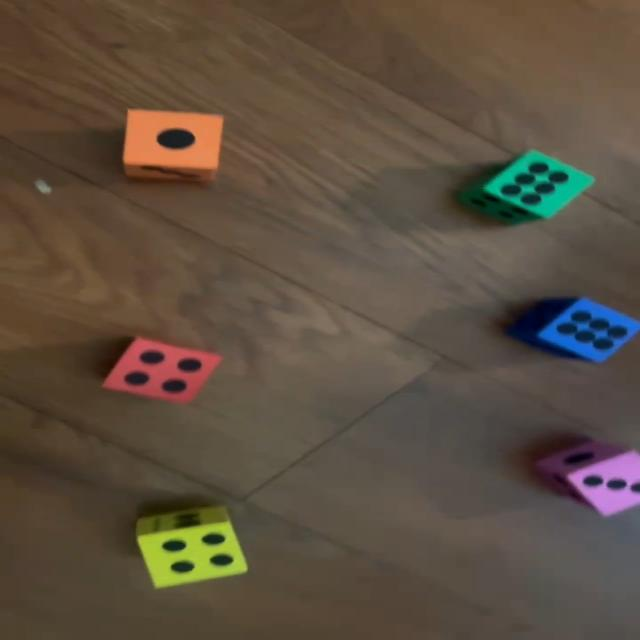blue_block: (509, 299, 640, 363)
red_block: (102, 336, 224, 402)
